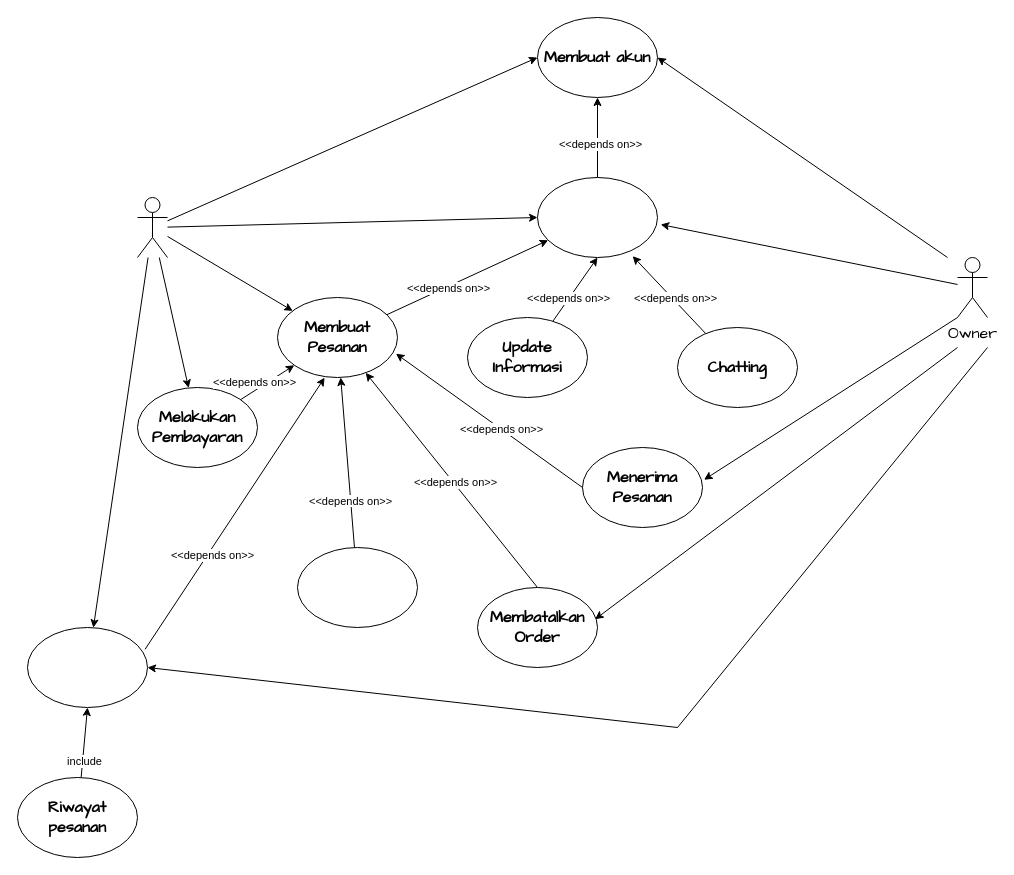
Some shapes in this 1014 by 875 pixel diagram are drawn without their labels. The box of each missing label's shape, as (x1, y1, x2, y2) in pixels:
Customer: (136, 196, 168, 258)
Login: (536, 176, 658, 258)
Memberi Rating: (296, 546, 418, 628)
Status Pesanan: (26, 626, 148, 708)
